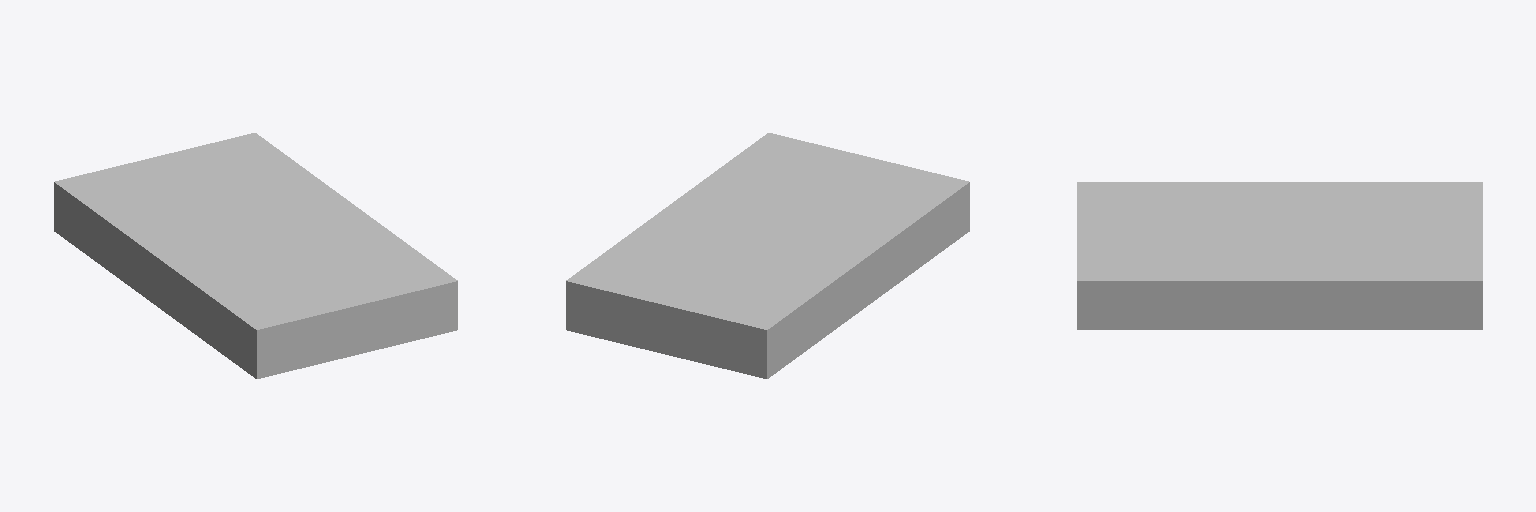
Rendered from VHS_tape.obj.
The picture shows the model from 3 angles: view 1: azimuth 30°, elevation 25°; view 2: azimuth 150°, elevation 25°; view 3: azimuth 270°, elevation 25°; orthographic projection.
Visible parts, largest first — view 1: VHS_Tape_Cube.002; view 2: VHS_Tape_Cube.002; view 3: VHS_Tape_Cube.002.
Part boxes in pixels (x1,y1,x2,y2): VHS_Tape_Cube.002: (54,133,457,378); VHS_Tape_Cube.002: (566,133,969,378); VHS_Tape_Cube.002: (1077,182,1482,329).
Bounding box in the file's own units: 0.3646 × 0.085 × 0.6353.